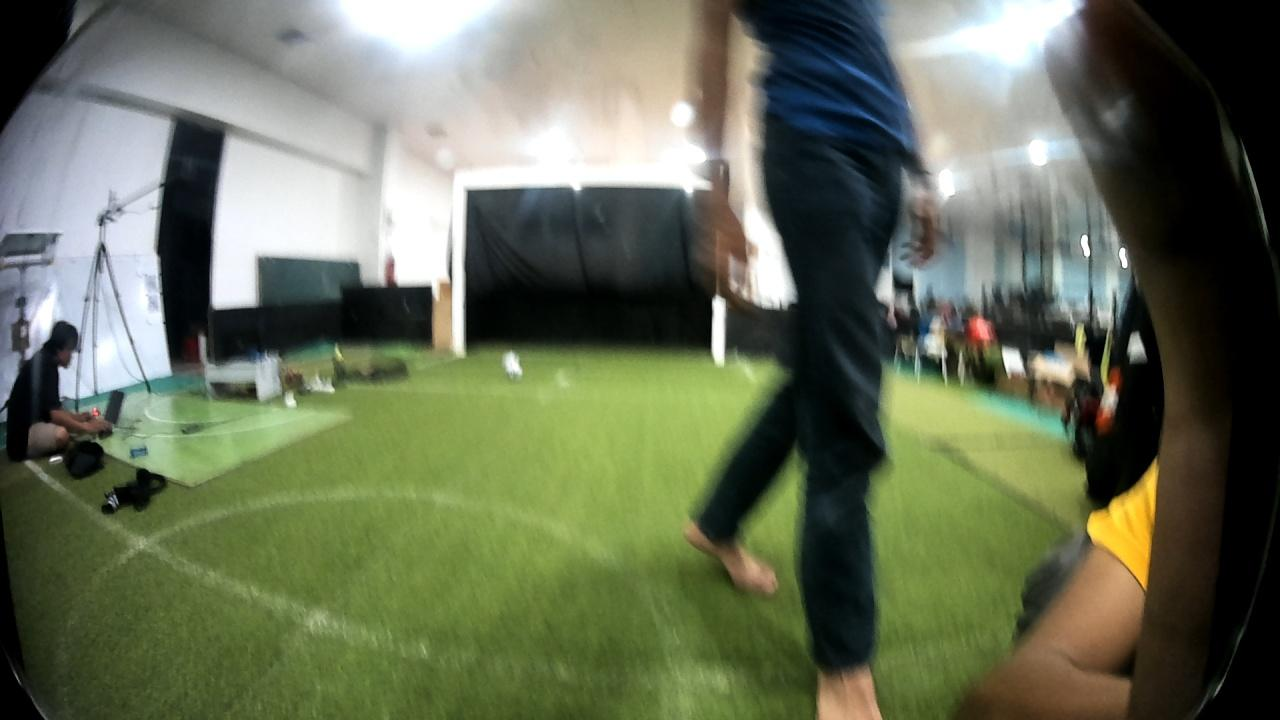ball: (499, 349, 523, 380)
